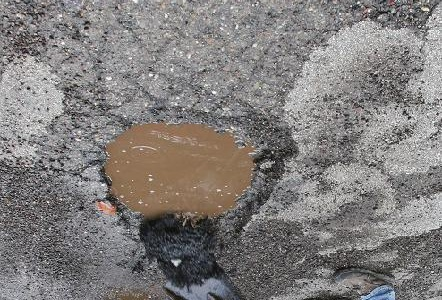pothole: (94, 98, 300, 249)
